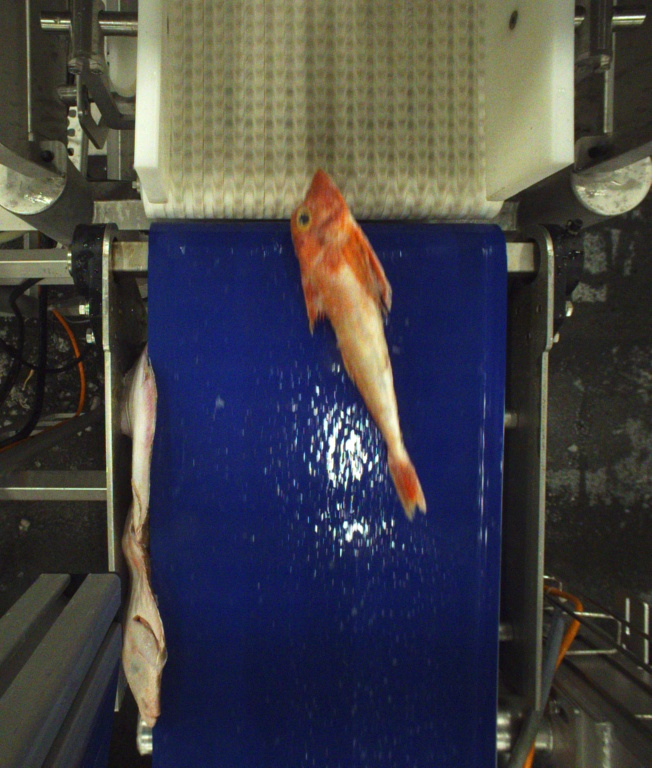GUU: (288, 166, 428, 521)
